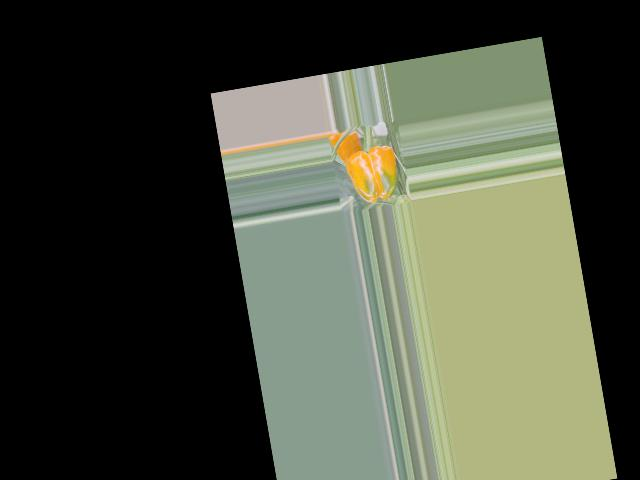bell_pepper: (340, 136, 409, 210)
